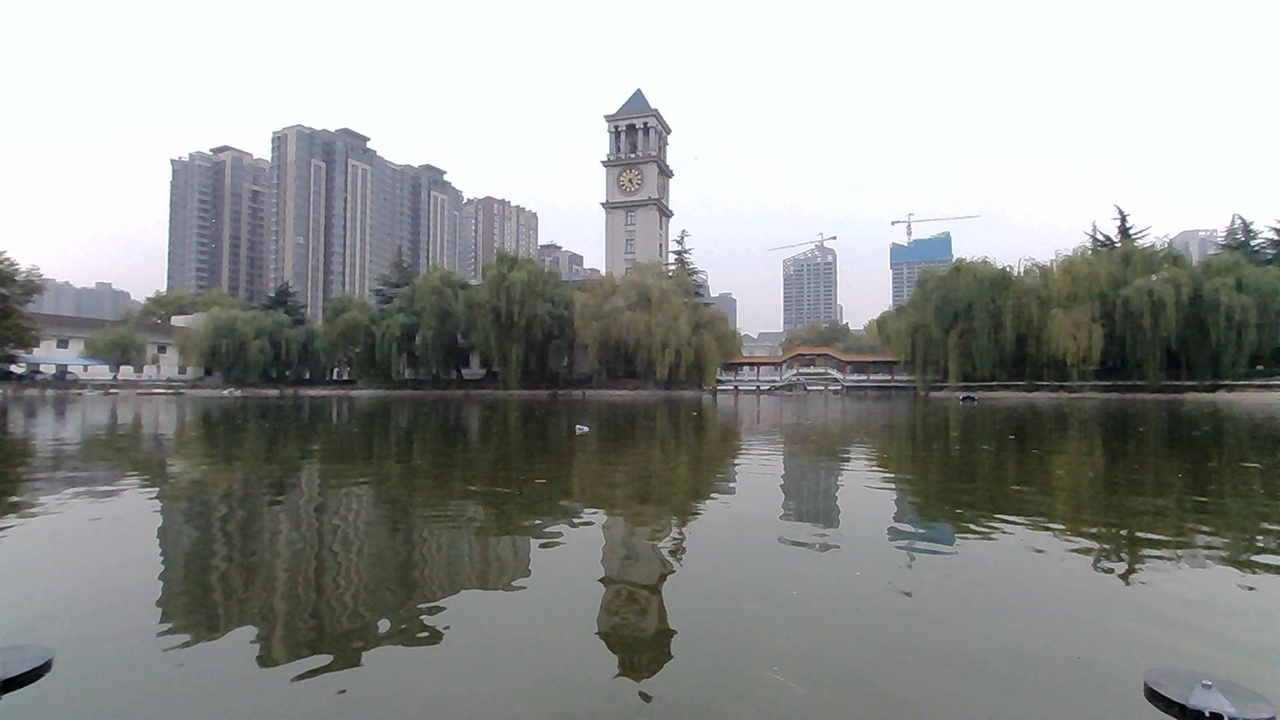bottle: (568, 409, 601, 434)
